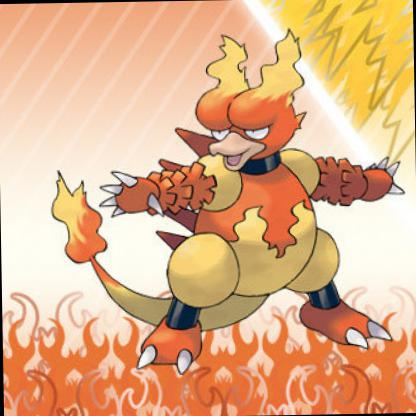Magmar: (42, 1, 414, 407), (85, 17, 416, 399)
